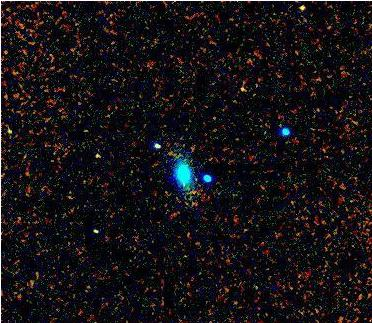star: (292, 0, 322, 24)
